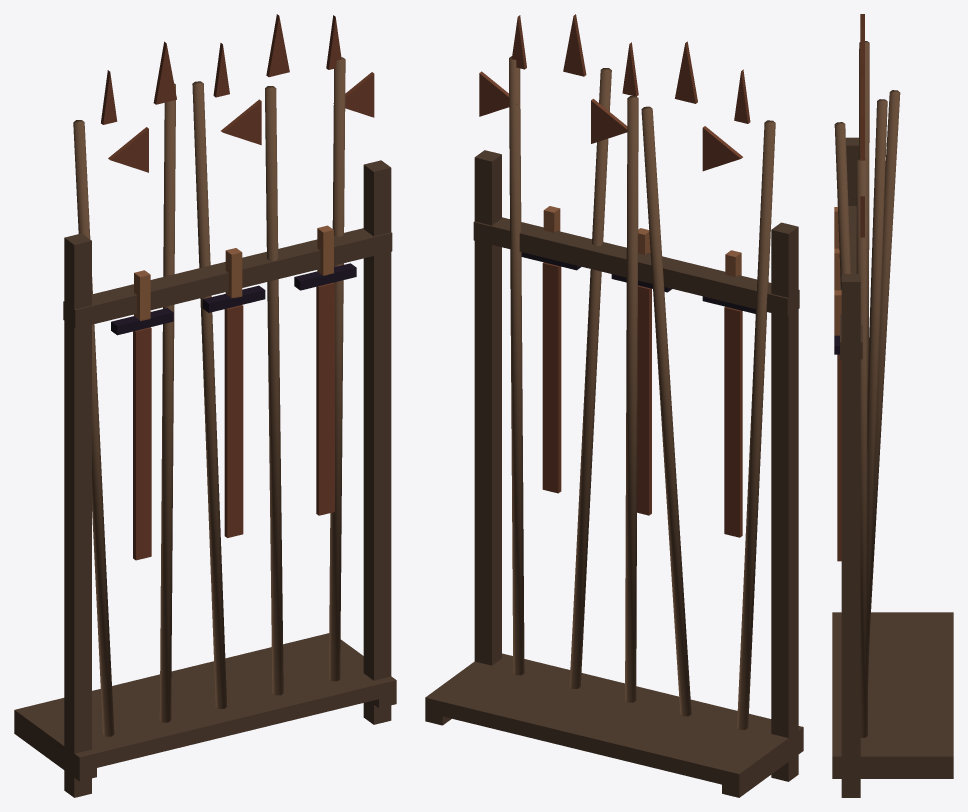
Rendered from weapon_rack.glb.
3 renders of one model, left to right at view 1: azimuth 30°, elevation 25°; view 2: azimuth 150°, elevation 25°; view 3: azimuth 270°, elevation 25°, orthographic. The views are drawn at different scales.
Parts seen in each view (by area): view 1: weapon_rack; view 2: weapon_rack; view 3: weapon_rack.
Part boxes in pixels (x1,y1,x2,y2): weapon_rack: (14,14,396,797); weapon_rack: (425,14,803,797); weapon_rack: (832,14,953,797).
Bounding box in the file's own units: 0.9 × 1.96 × 0.32.
